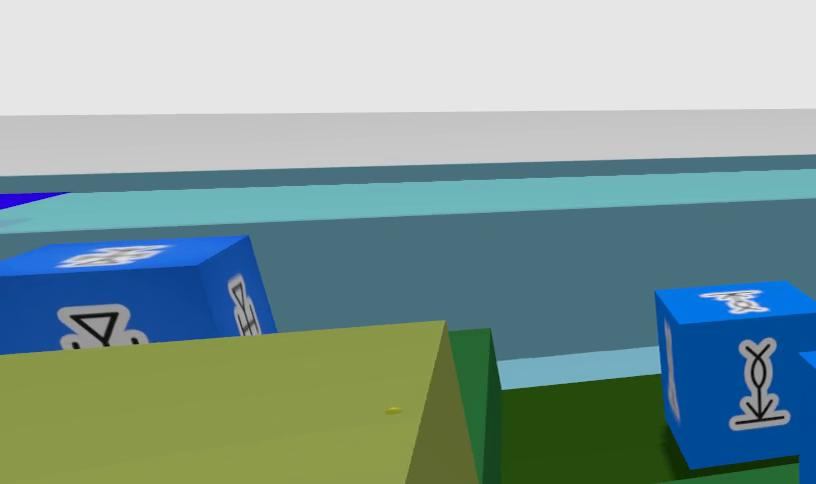KFS_REAL: (0, 236, 274, 354), (654, 281, 816, 467), (728, 339, 790, 429), (57, 304, 150, 349), (799, 418, 816, 484), (803, 353, 816, 418)
